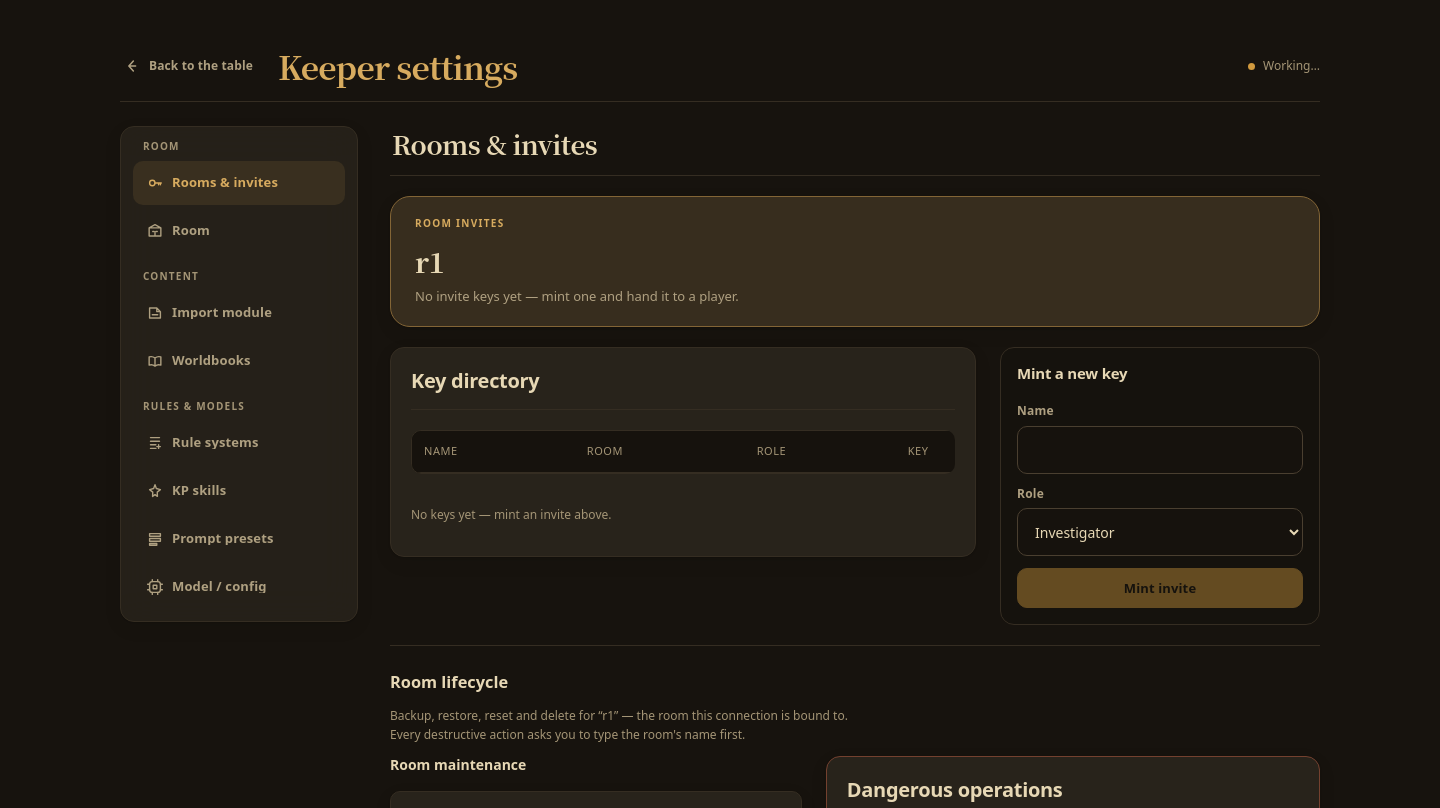
PlayView › restores the screen from the URL hash, and writes it on navigation
Expected: the heading "Keeper settings" is shown, 278,48 -> 518,85
Expected: the tab "Rooms & invites" is shown, 133,161 -> 345,205
In-app navigation writes the hash, so the URL and the screen stay in step.
Click the button "Back to the table": (188, 66) 110,50 -> 266,82
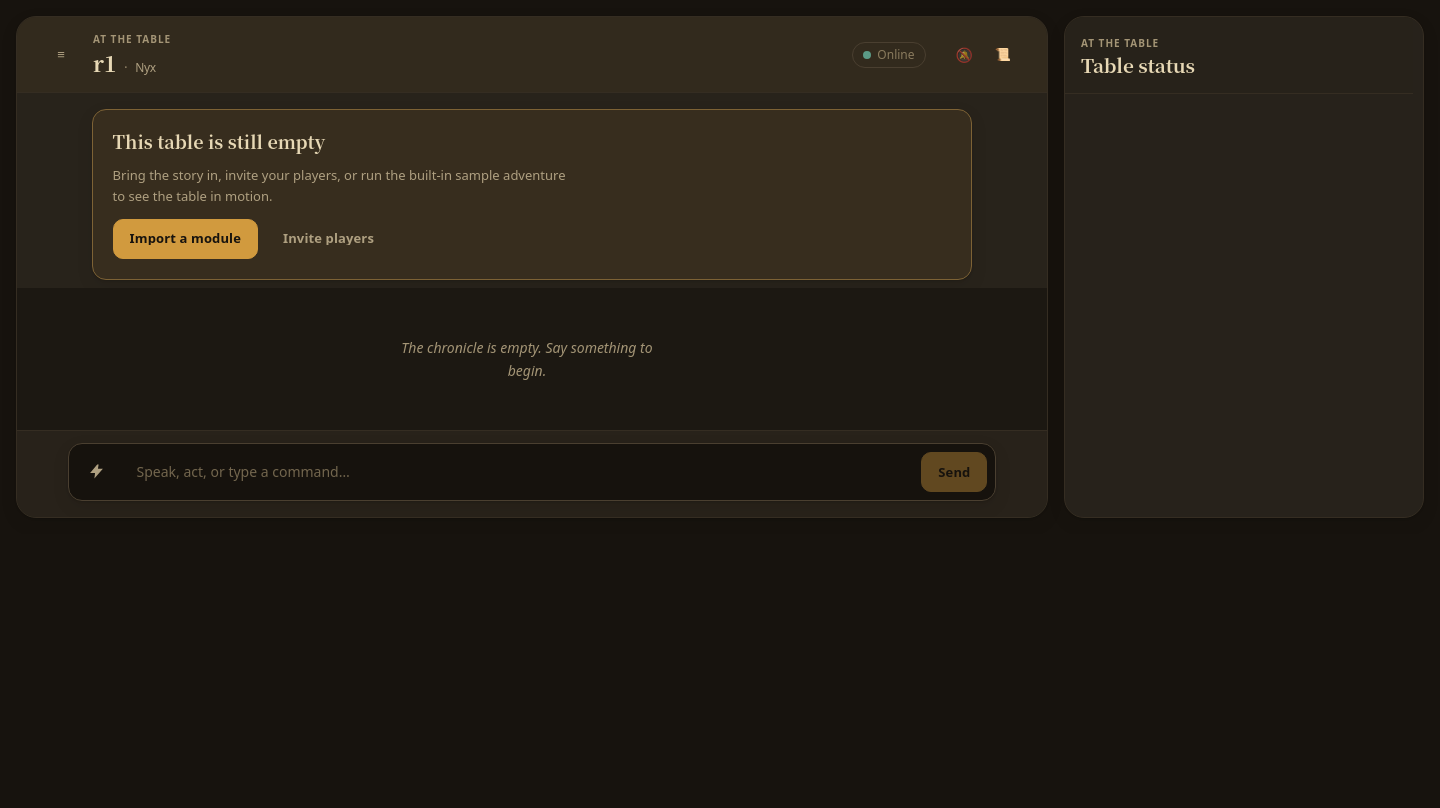
Expected: the dropdown labelled "Speak, act, or type a command…" is shown, 125,452 -> 913,492
